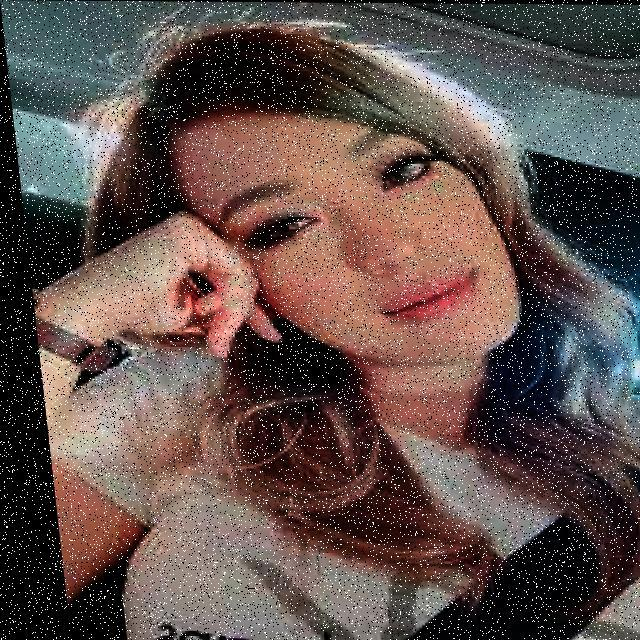seatbelt: (219, 391, 640, 640)
